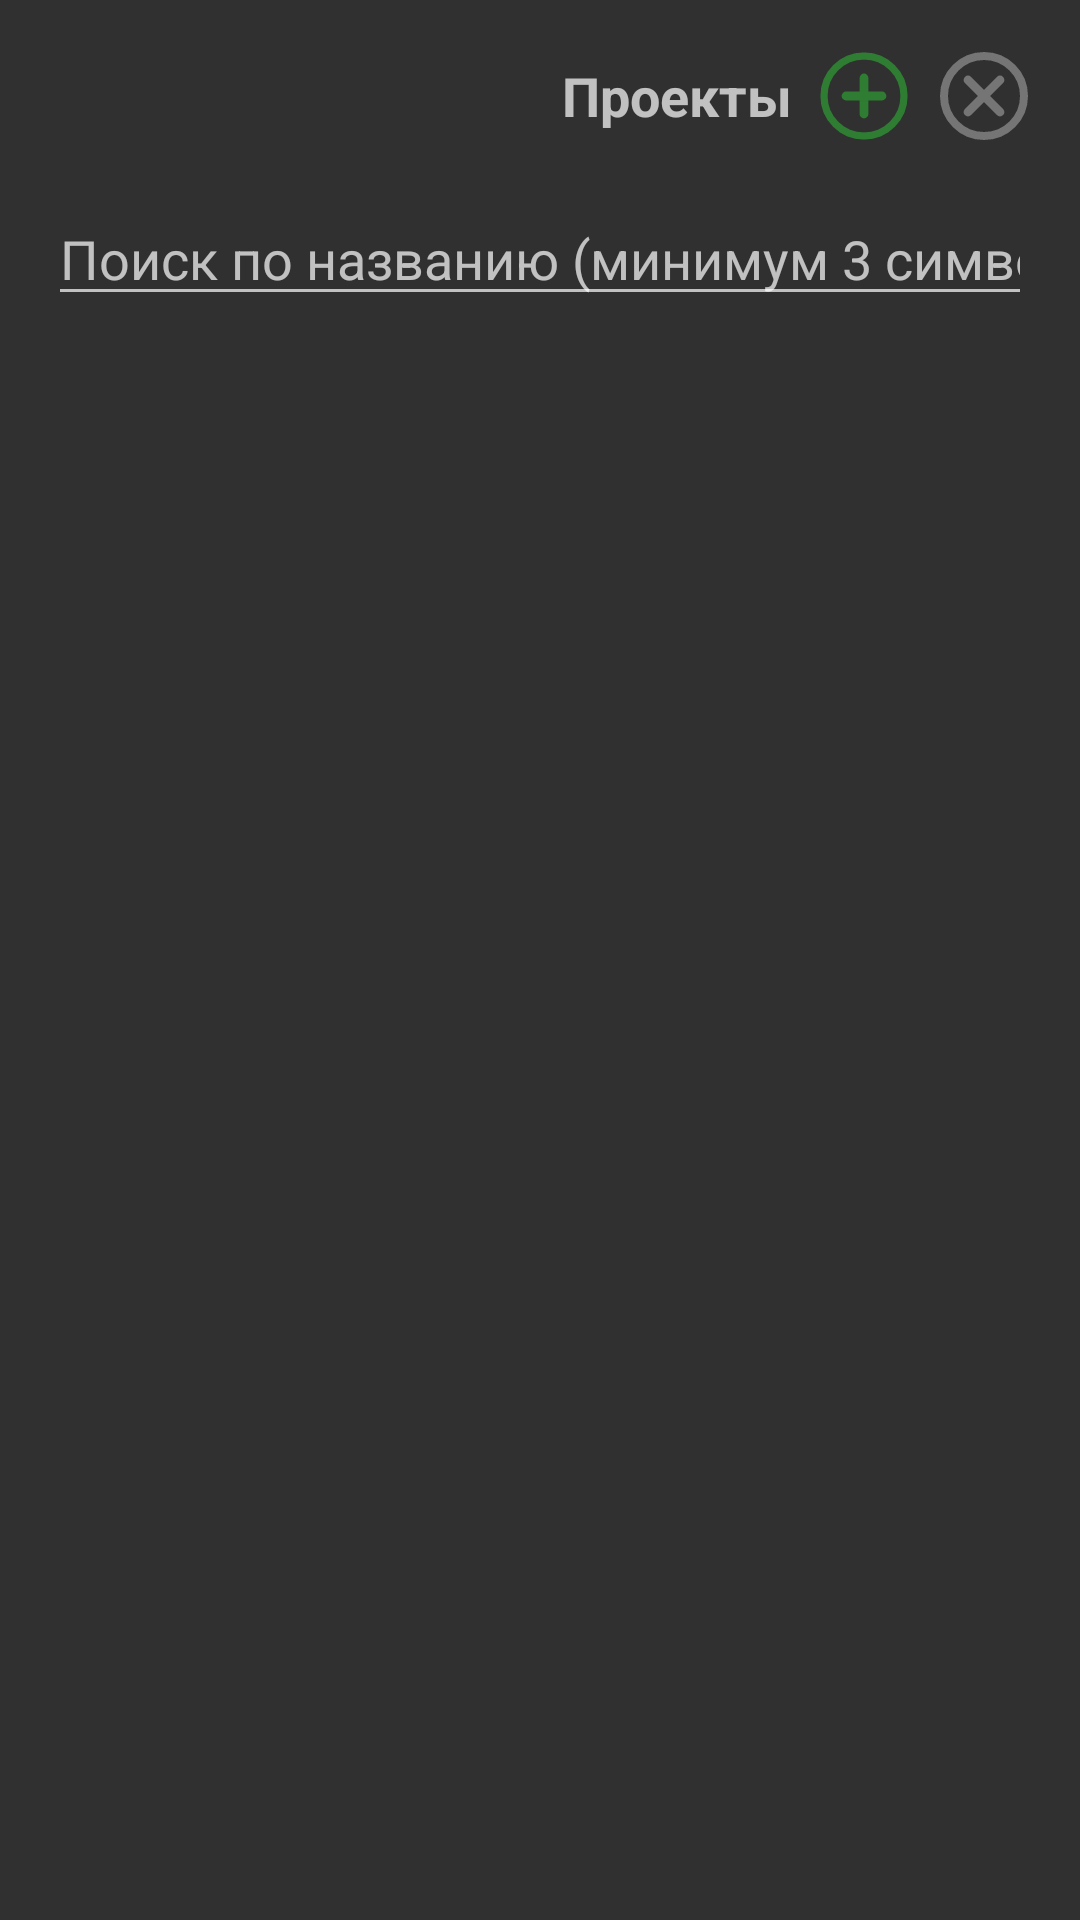

Where to tap for icons on this 1080x1920 app screen, as (x=x, y=y):
Добавить проект: (x=864, y=96)
